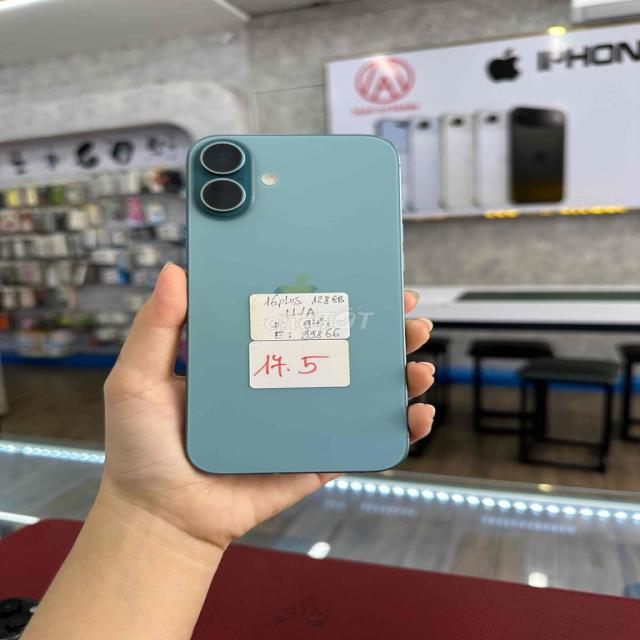gen_16: (185, 135, 408, 474)
